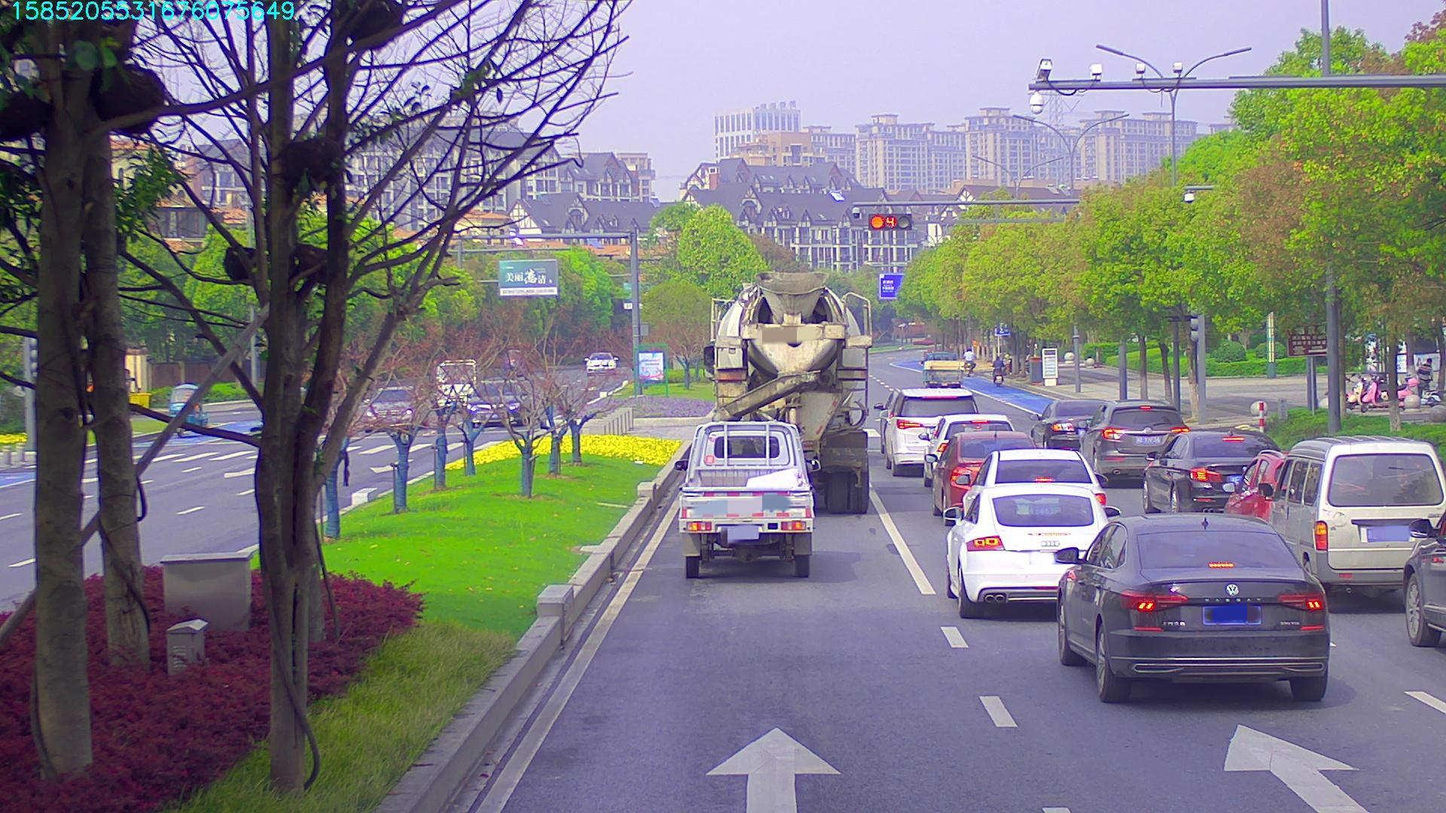red: (862, 215, 915, 235)
